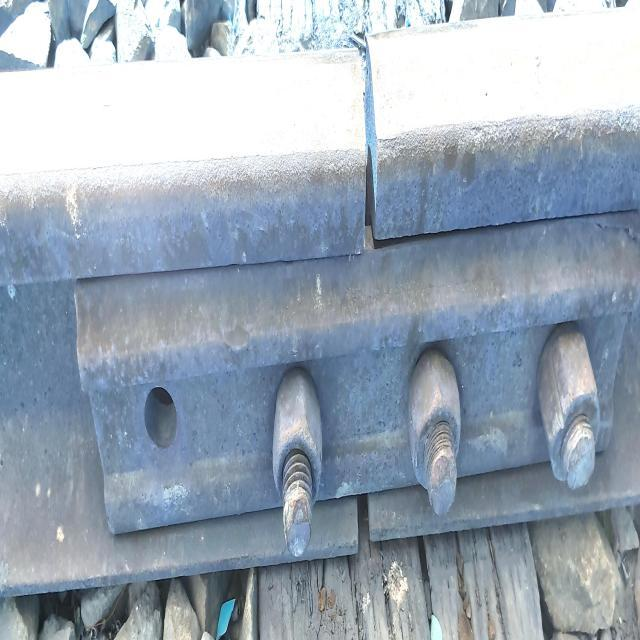Defective Joint: (78, 271, 640, 499)
